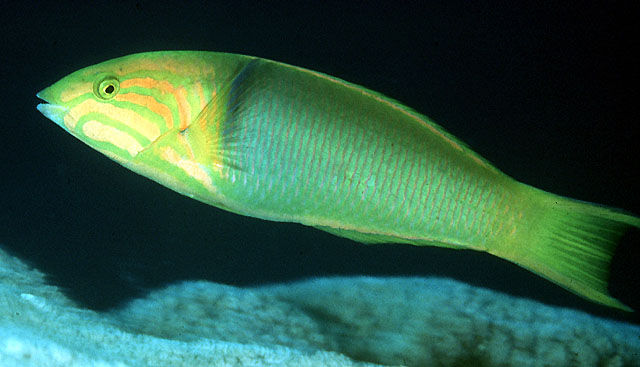fish: (34, 49, 637, 313)
